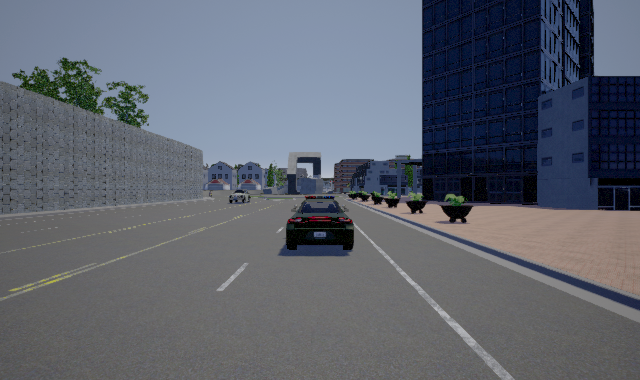vehicle: (286, 196, 354, 250), (225, 189, 253, 205)
